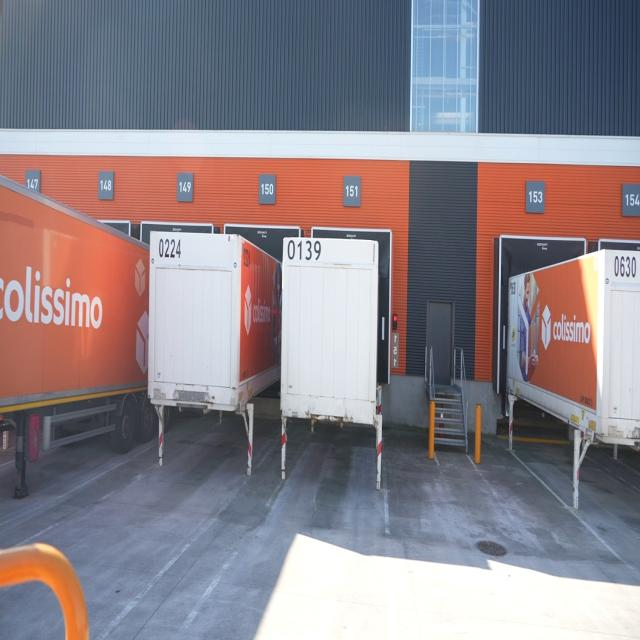Code: (285, 237, 324, 267), (611, 252, 637, 281), (155, 234, 182, 260)
